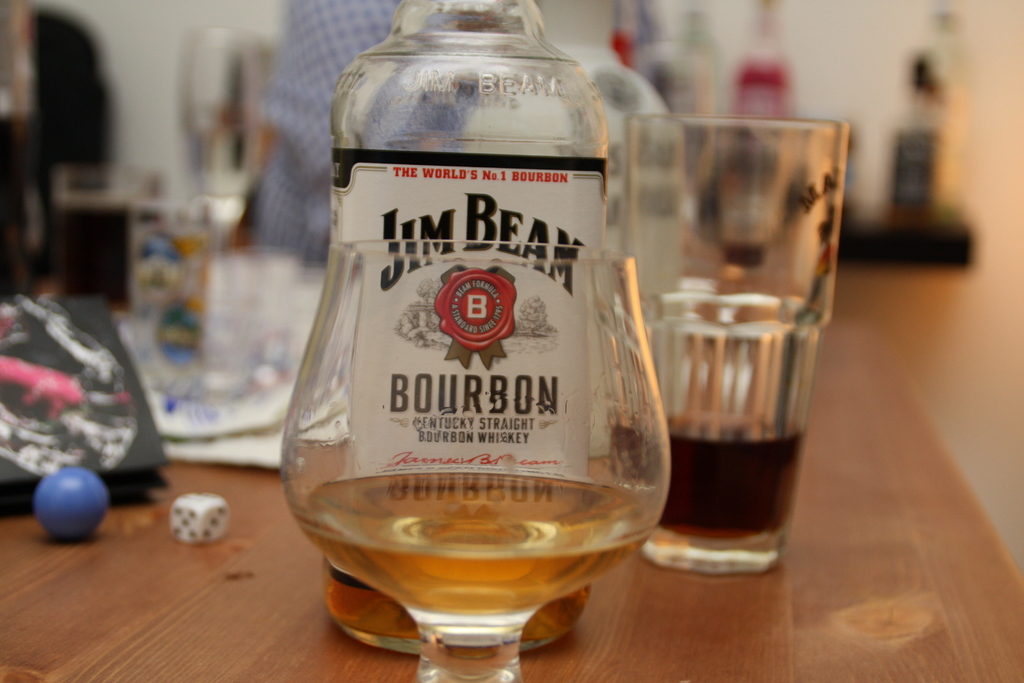Beer: (264, 0, 676, 682), (625, 107, 836, 610)
